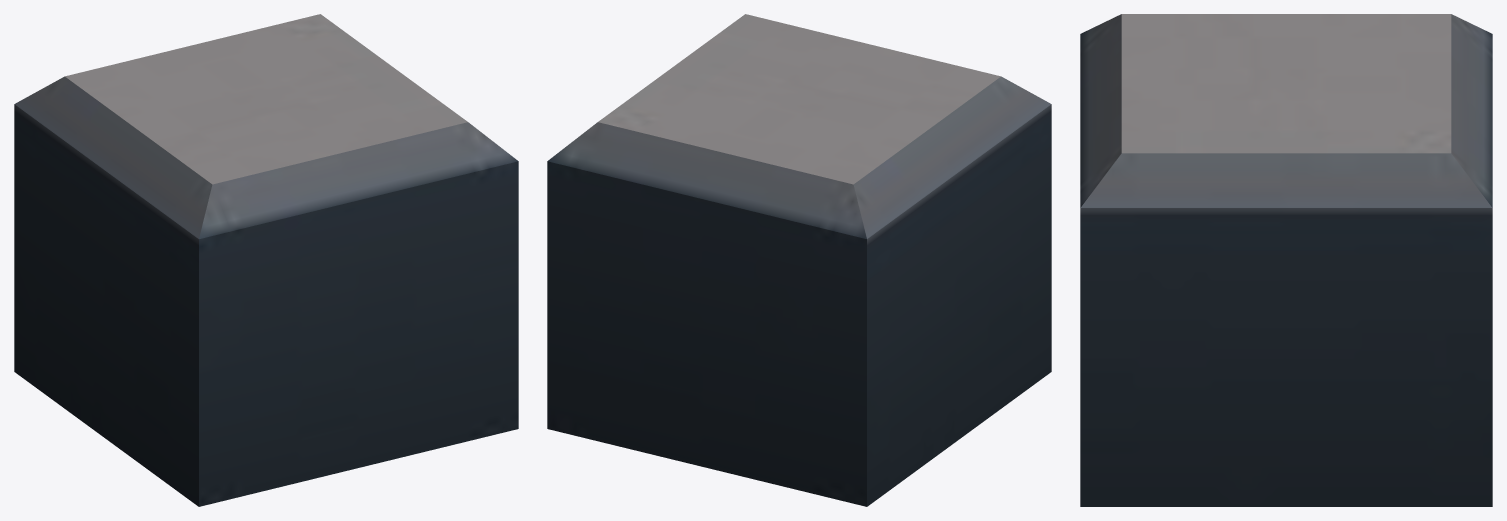
The model's file is substation.glb.
3 views of the same model, side by side, from view 1: azimuth 30°, elevation 25°; view 2: azimuth 150°, elevation 25°; view 3: azimuth 270°, elevation 25° (orthographic). The views are drawn at different scales.
Visible parts, largest first — view 1: substation; view 2: substation; view 3: substation.
Boxes of the visible parts, x1,y1,x2,y2 form: substation: [14, 14, 518, 506]; substation: [547, 14, 1051, 506]; substation: [1080, 14, 1492, 506].
Bounding box in the file's own units: 0.2 × 0.18 × 0.2.
1 material, 1 textured.
